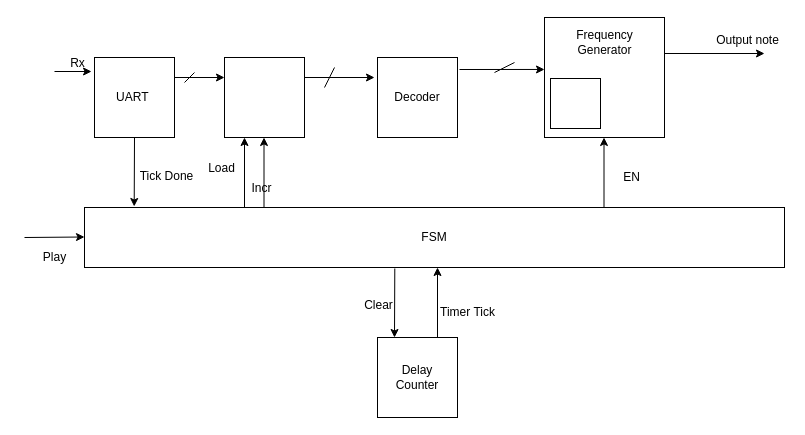
Image size: 805x435. Some labels were removed from this diagram. The box of each missing label's shape, as (x1, y1, x2, y2) in pixels:
Counter: (550, 78, 600, 128)
RAM: (224, 56, 304, 138)
